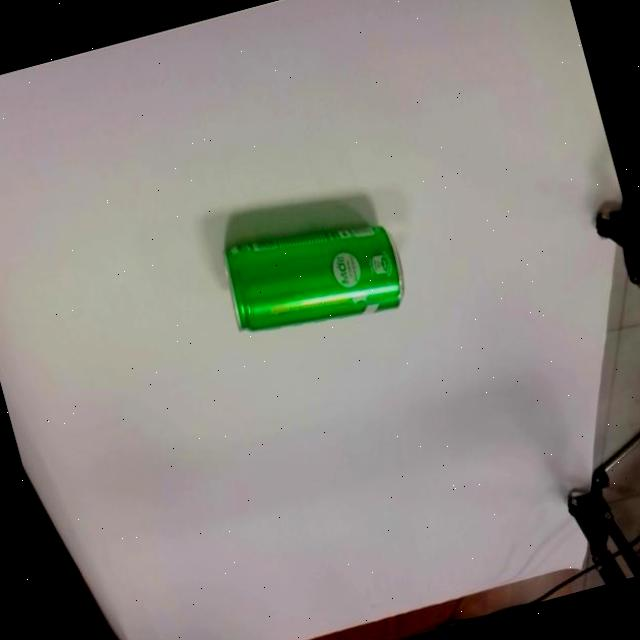debris: (206, 173, 412, 349)
